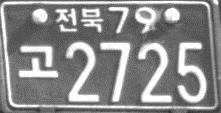2: (136, 40, 172, 104), (64, 40, 100, 103)
5: (176, 40, 207, 104)
7: (98, 40, 132, 105), (107, 5, 129, 35)
9: (133, 6, 158, 33)
고: (17, 43, 60, 79)
전북_O: (53, 7, 105, 34)
